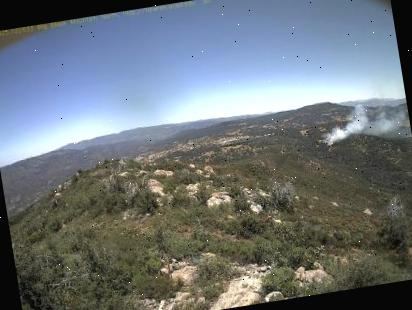smoke: (316, 91, 412, 148)
